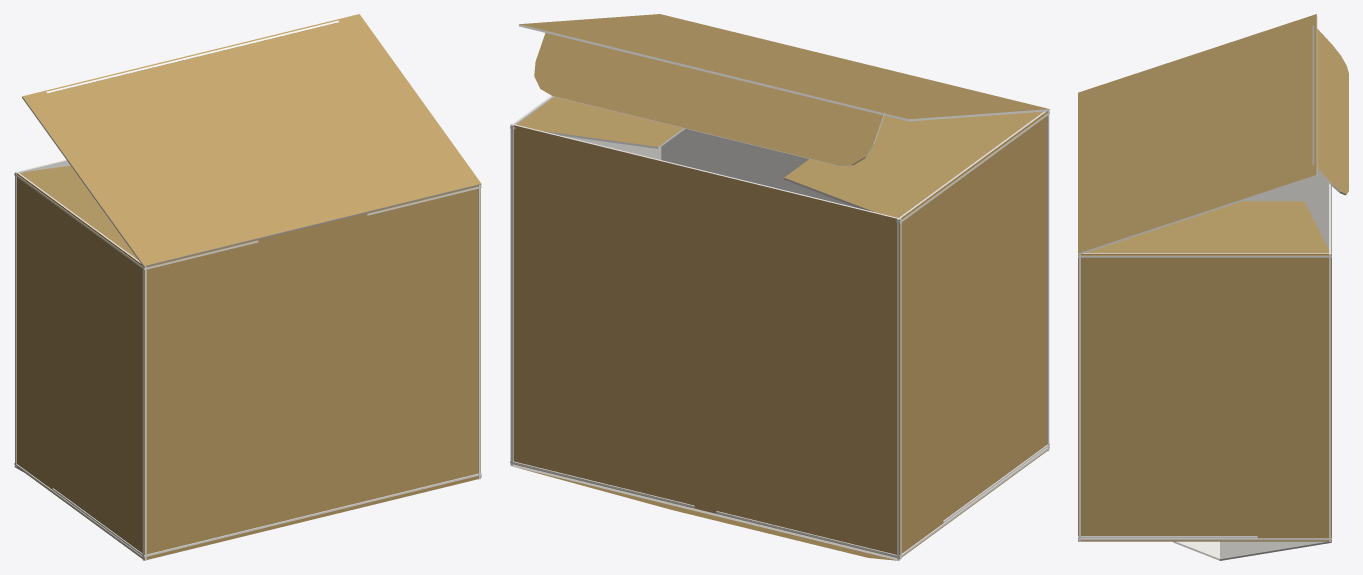
3 renders of one model, left to right at view 1: azimuth 30°, elevation 25°; view 2: azimuth 150°, elevation 25°; view 3: azimuth 270°, elevation 25°, orthographic. The views are drawn at different scales.
Parts seen in each view (by area): view 1: Packive_Box_fefco0215; view 2: Packive_Box_fefco0215; view 3: Packive_Box_fefco0215.
Part boxes in pixels (box(x1,y1,x2,y2)): Packive_Box_fefco0215: box(14, 14, 481, 560); Packive_Box_fefco0215: box(510, 14, 1049, 560); Packive_Box_fefco0215: box(1078, 14, 1348, 560).
Size of the model in its own units: 0.3 by 0.3707 by 0.2135.
26 materials, 13 textured.
